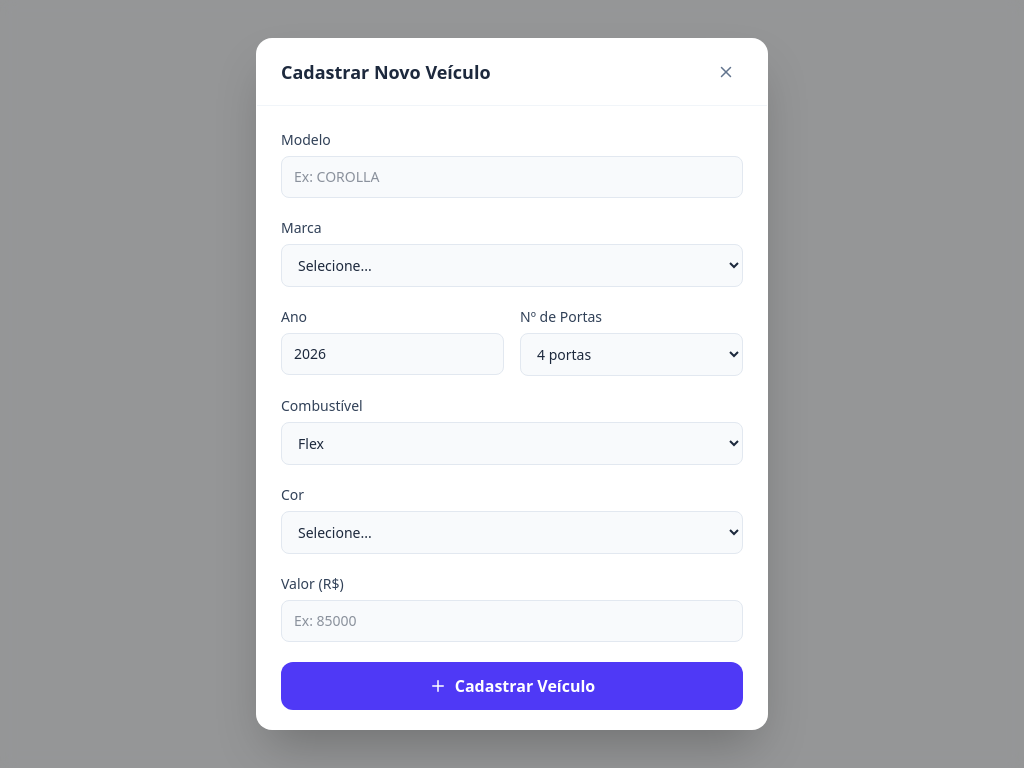
VehicleForm — validação › exibe erros ao submeter sem preencher campos
Click the button "Cadastrar Veículo" at (512, 686), box [281,662,743,710]
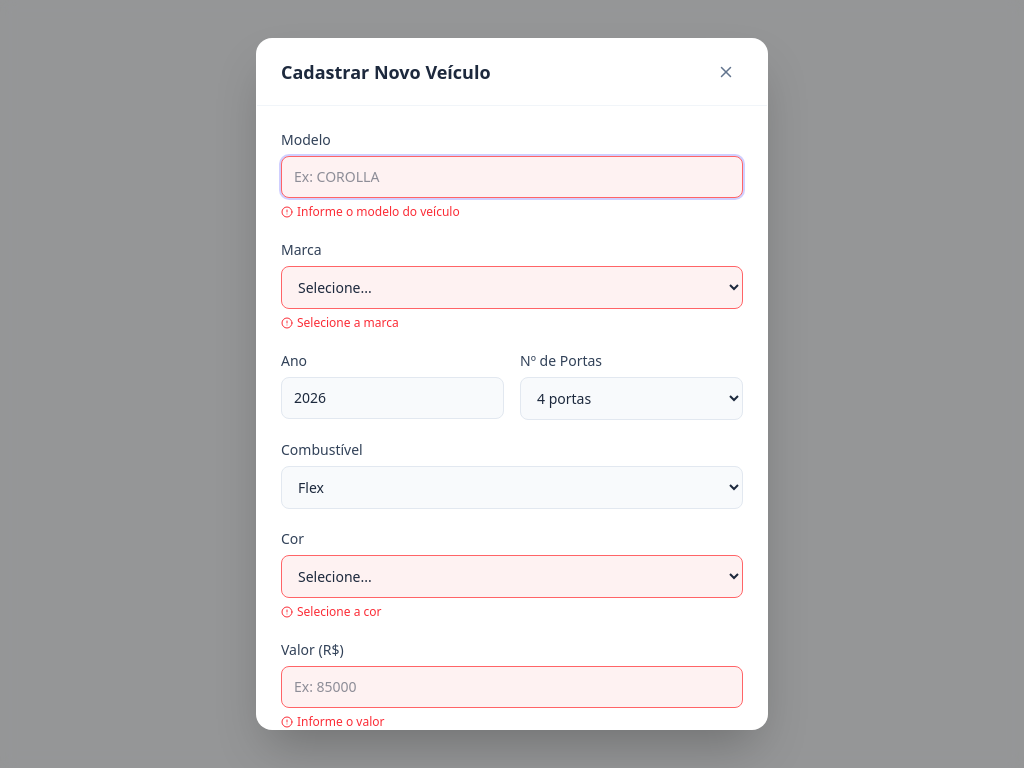
Now the text "Informe o modelo do veículo" is shown, box [281,203,460,220]
